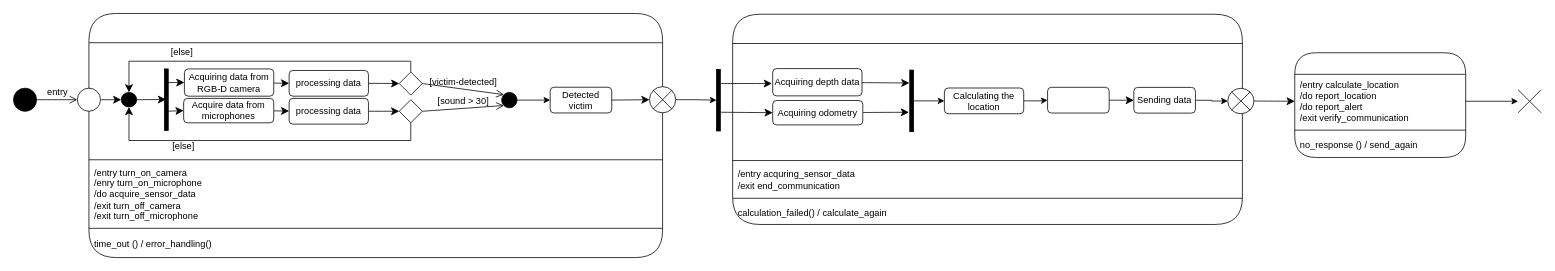
This 1555x271 diagram has some shape labels left out. The box of each missing label's shape, as (x1, y1, x2, y2) in pixels:
Detecting victims: (88, 13, 663, 258)
Locating: (732, 13, 1242, 224)
Reporting: (1294, 52, 1466, 157)
Verifying data: (1047, 87, 1109, 113)
